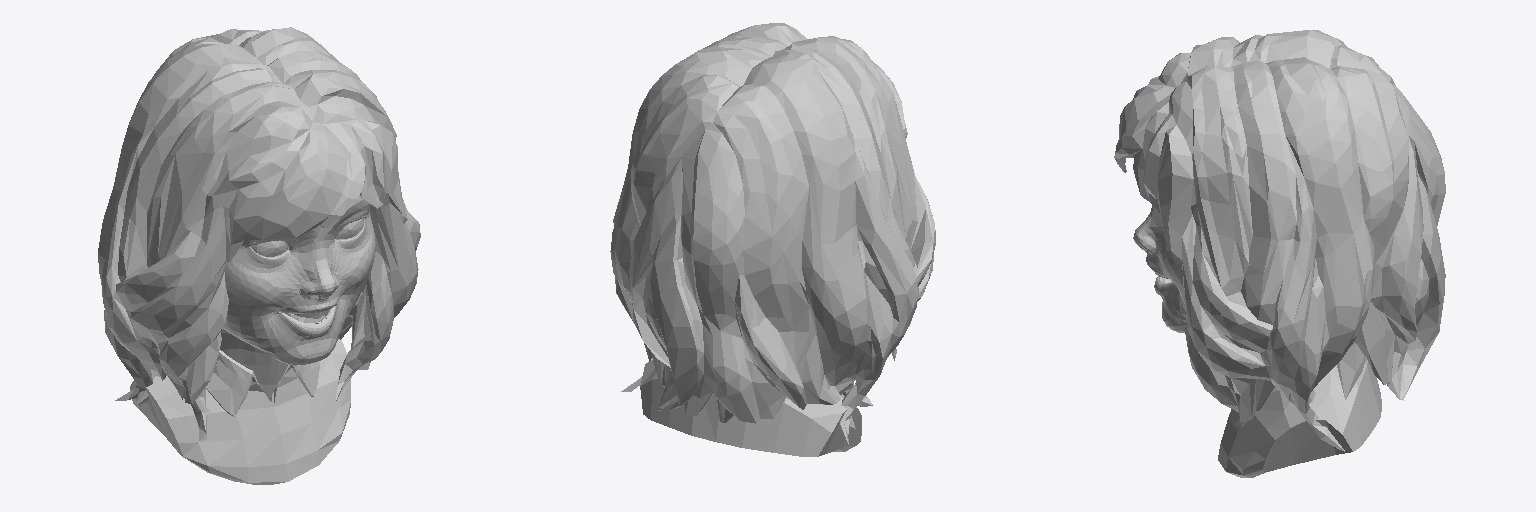
3 renders of one model, left to right at view 1: azimuth 30°, elevation 25°; view 2: azimuth 150°, elevation 25°; view 3: azimuth 270°, elevation 25°, orthographic.
Visible parts, largest first — view 1: Wolf3D_Avatar; view 2: Wolf3D_Avatar; view 3: Wolf3D_Avatar.
Part boxes in pixels (bbox=[...]): Wolf3D_Avatar: bbox=[98, 27, 420, 484]; Wolf3D_Avatar: bbox=[610, 23, 935, 456]; Wolf3D_Avatar: bbox=[1114, 30, 1445, 477].
Bounding box in the file's own units: 0.2775 × 0.3677 × 0.2652.